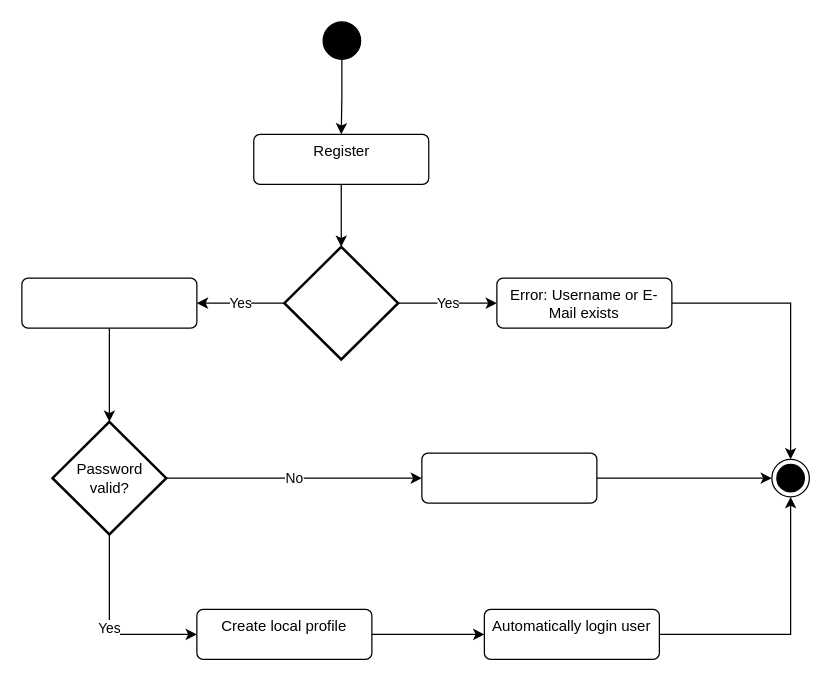
This 831x681 diagram has some shape labels left out. Each missing label, with the centre of its shape:
"Error: Invalid password (empty, repetition)" belongs at point 509,477.
"Username or E -Mail exists?" belongs at point 340,302.
"VerifyPassword" belongs at point 109,302.
